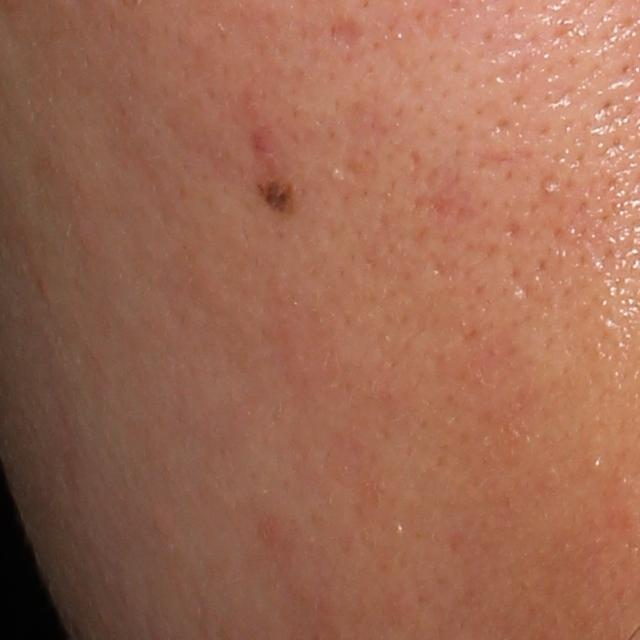atrophic_scar: (331, 15, 366, 49)
nevus: (257, 174, 296, 215)
